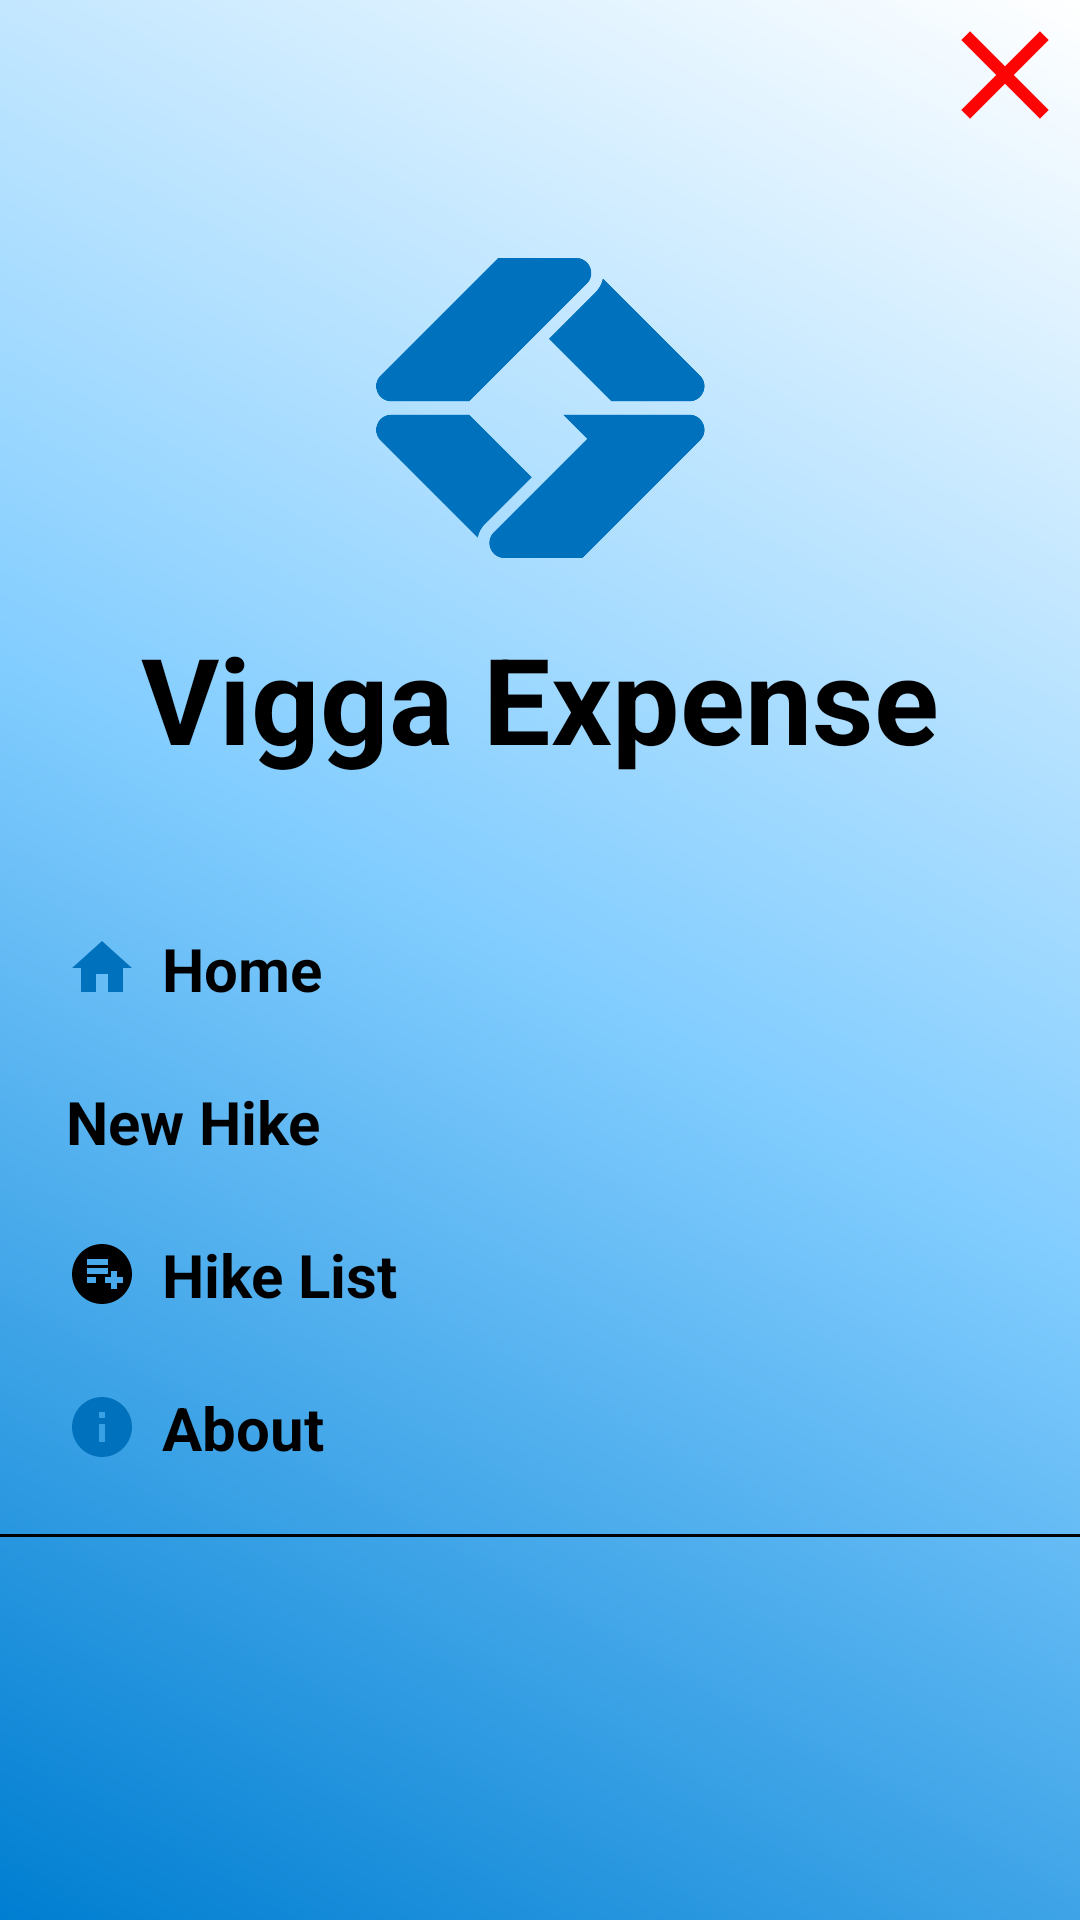

Named icons in this screenshot (1080 x 1920) and their centers, (x,y):
close: (1005,68)
